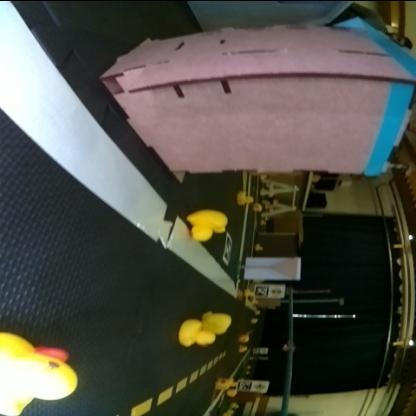Duckie: (2, 331, 78, 414), (190, 209, 228, 239), (180, 320, 216, 340), (201, 311, 231, 331), (239, 190, 254, 202), (218, 377, 233, 387), (256, 242, 263, 248), (241, 346, 248, 350)
QR code: (224, 233, 232, 264), (239, 379, 252, 390), (256, 284, 268, 295)
Signal sign: (270, 286, 286, 296)
